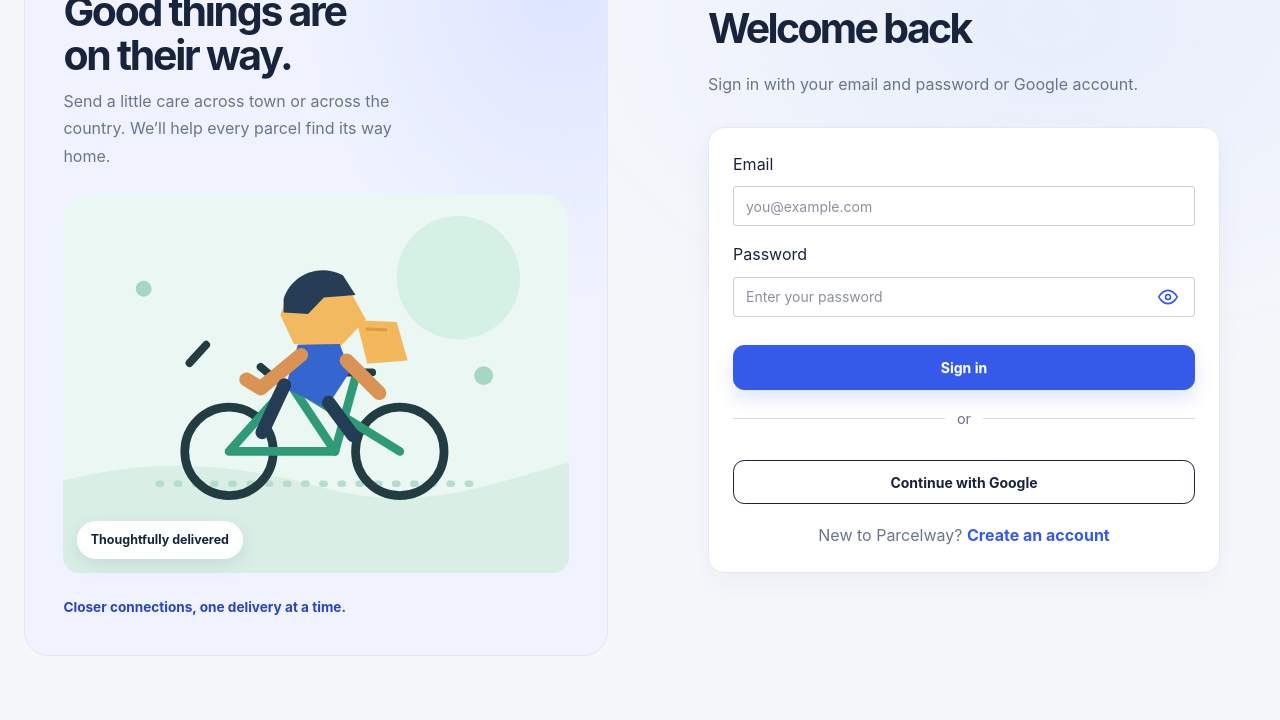
Scenario: Firebase account access page › requires valid email and password values before registration
(page scrolled)
Click the button "Create an account".
click(1038, 535)  # box x1=967 y1=522 x2=1110 y2=548
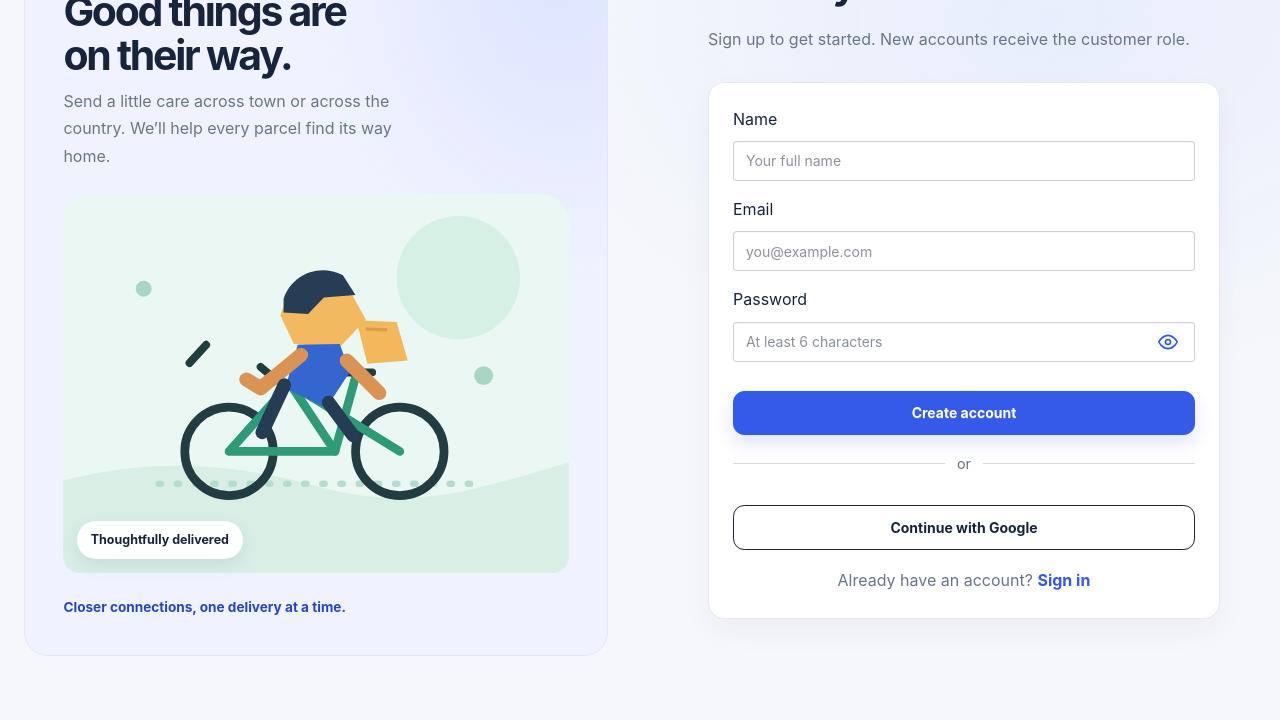
Type "Casey Customer" into the field labelled "Name".
click(964, 161); type("Casey Customer")  # box x1=733 y1=141 x2=1195 y2=181
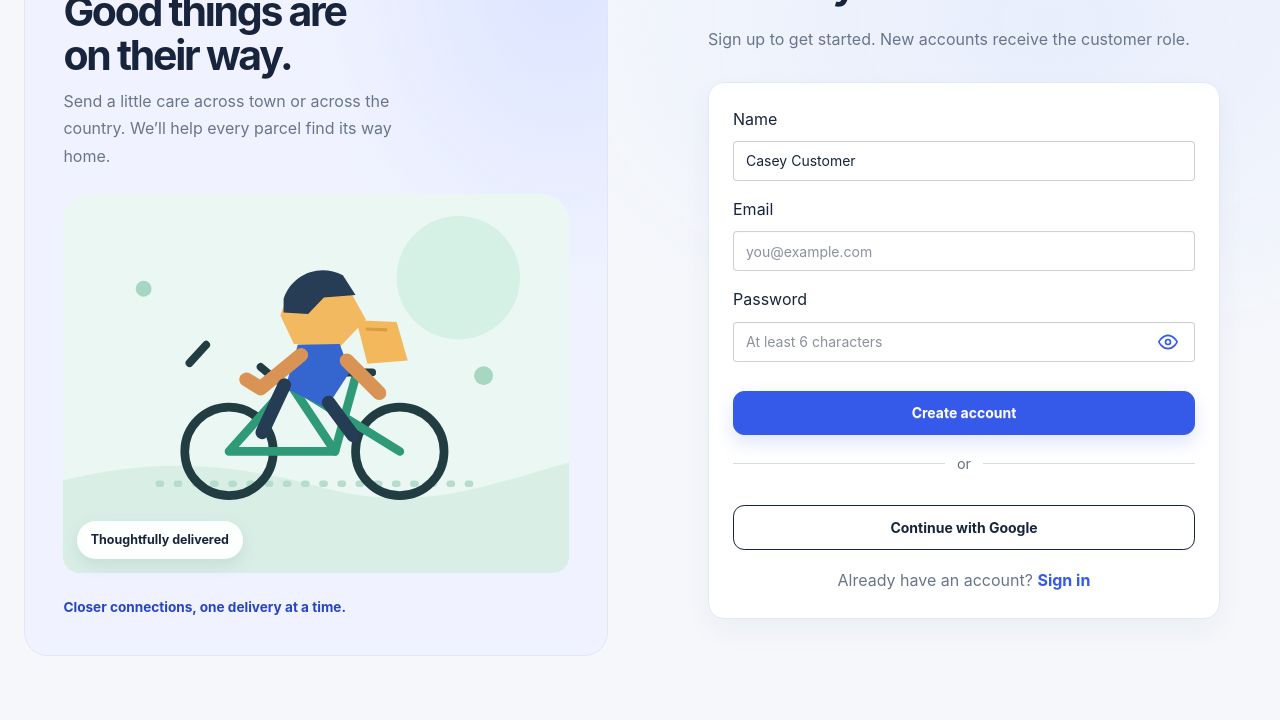
Type "not-an-email" into the field labelled "Email".
click(964, 251); type("not-an-email")  # box x1=733 y1=231 x2=1195 y2=271
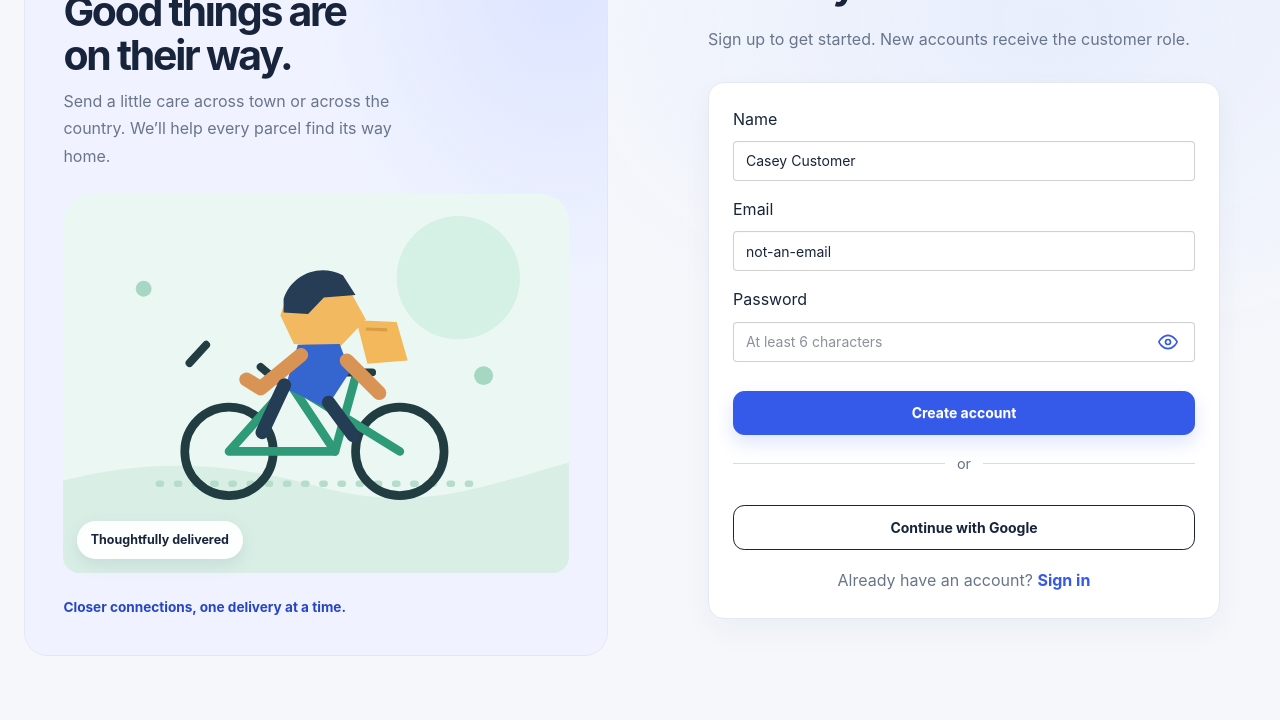
Type "123" into the password field labelled "Password".
click(964, 342); type("123")  # box x1=733 y1=322 x2=1195 y2=362
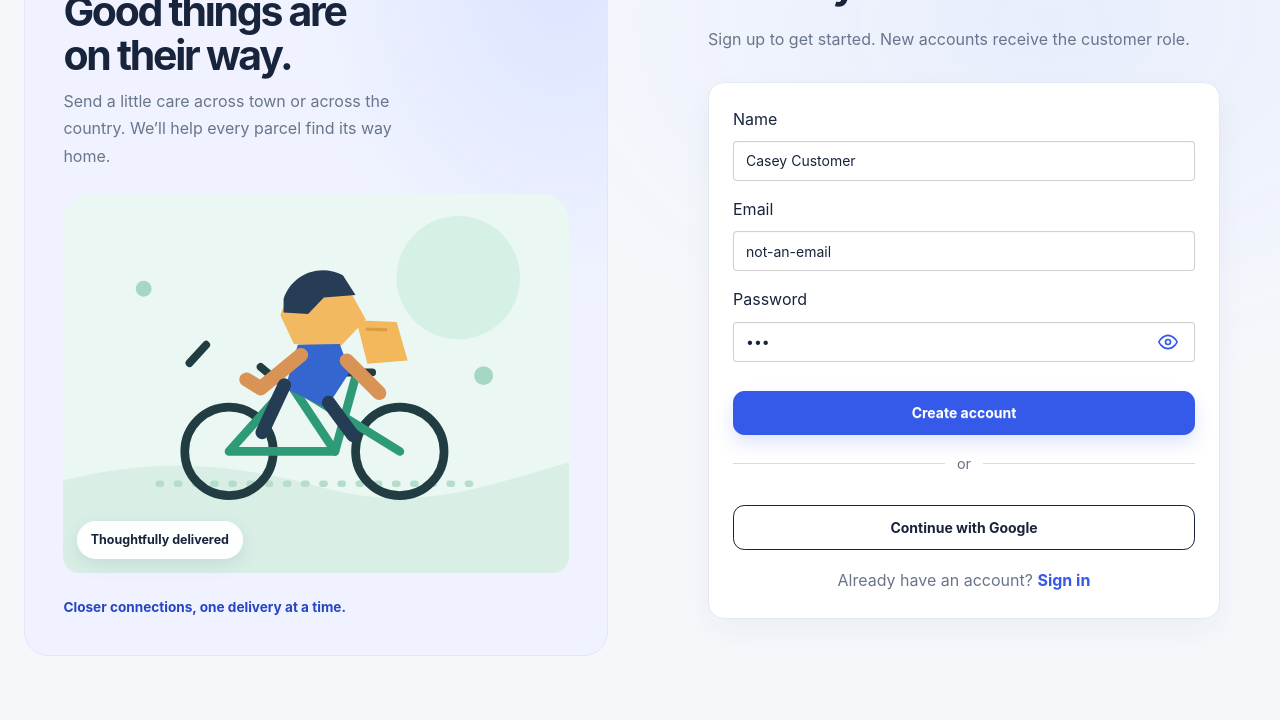
Click the button "Create account".
click(964, 413)  # box x1=733 y1=390 x2=1195 y2=435
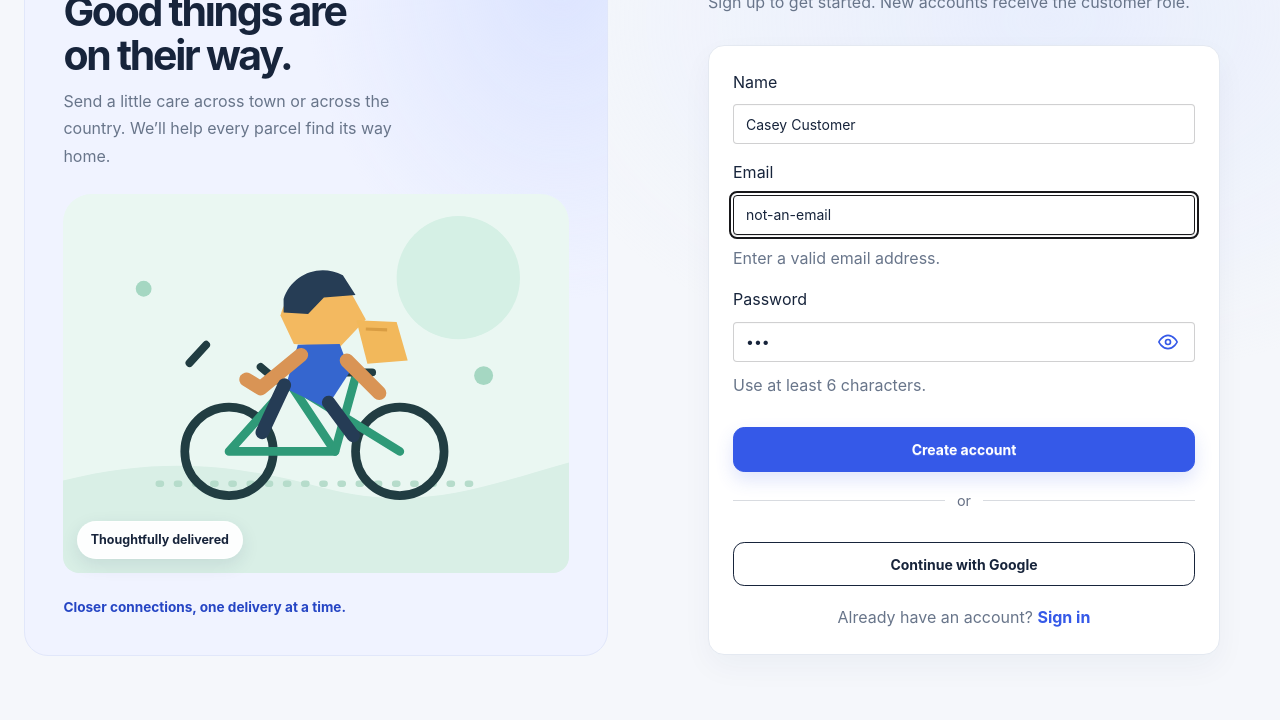
Expected: the text "Enter a valid email address." is shown, x1=733 y1=248 x2=940 y2=268
Expected: the text "Use at least 6 characters." is shown, x1=733 y1=375 x2=926 y2=395
